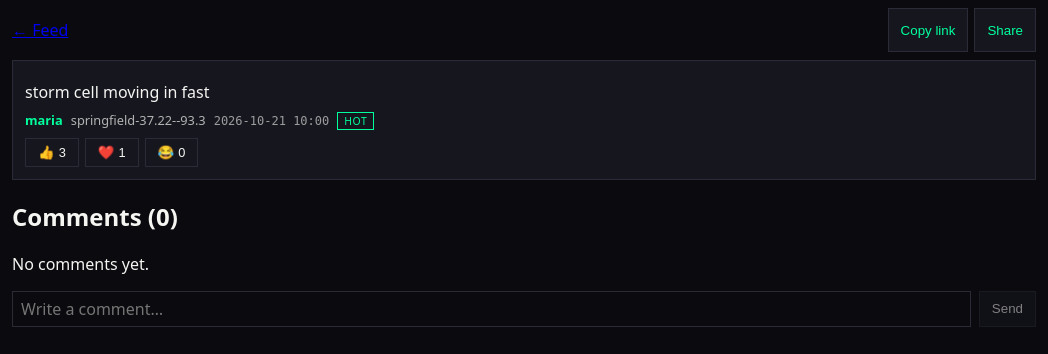
Test: PostDetailPage engagement › optimistic reply posts through the API seam
Type "thanks" into the field with test id "post-detail-reply-input". click: (491, 309)
box: [12, 291, 971, 327]
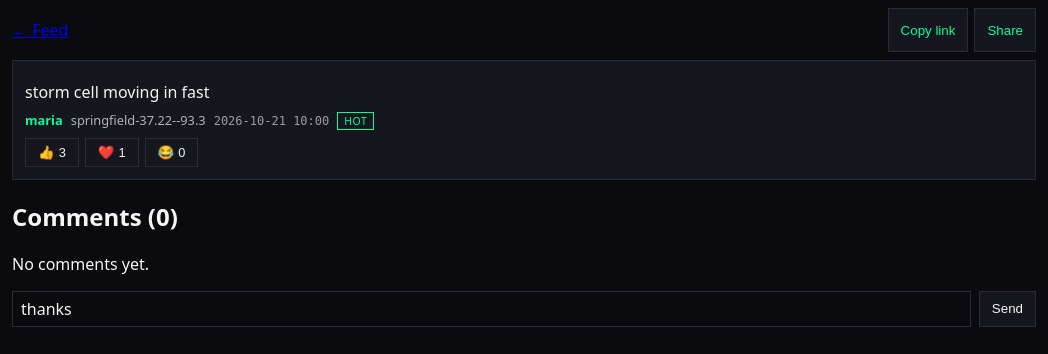
Click the button with test id "post-detail-reply-send". click: (1007, 309)
box: [979, 291, 1036, 327]
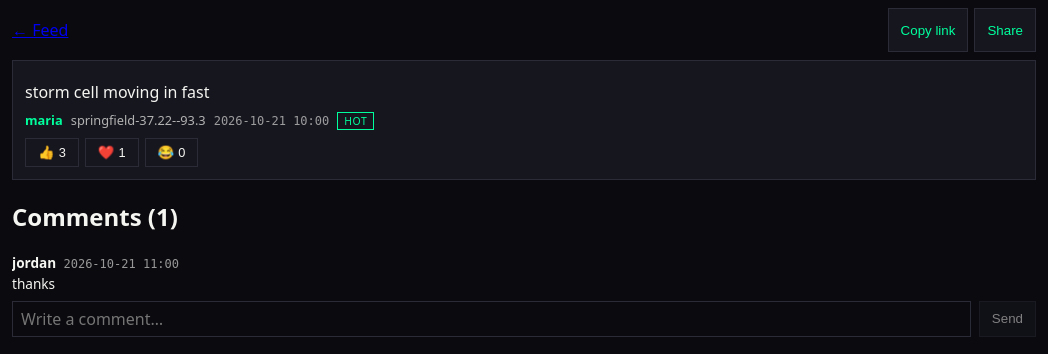
Check: the element with test id "comment-c_new" shows "thanks", box [12, 274, 55, 293]
